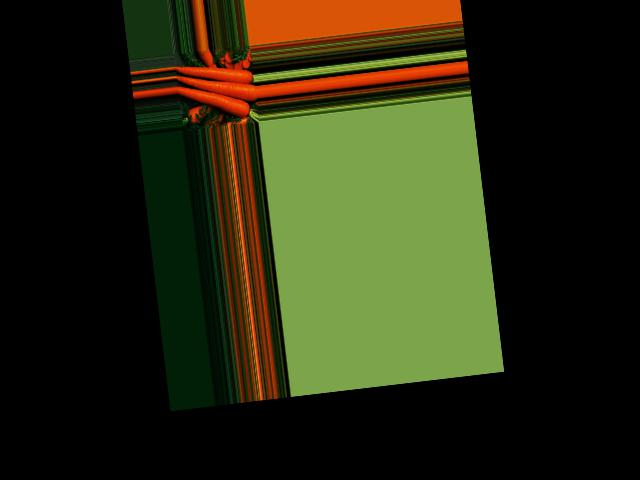carrot: (178, 78, 249, 126)
